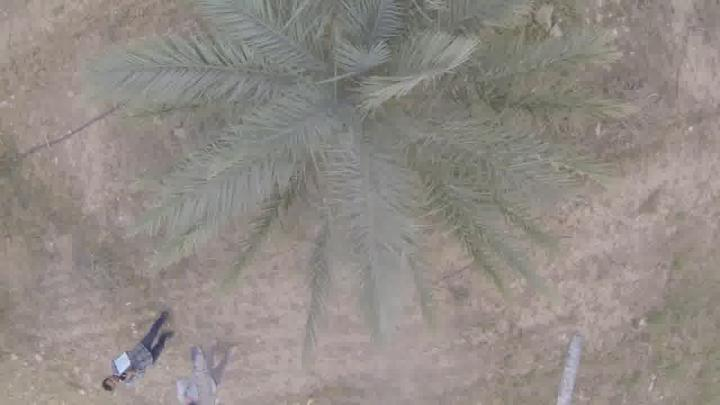Date-Palm-Crown: (214, 0, 486, 248)
